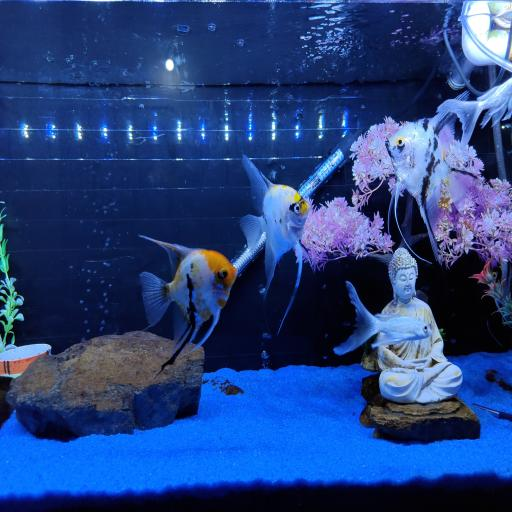Fish: (387, 113, 476, 263), (140, 236, 237, 369), (240, 156, 309, 330), (334, 281, 432, 355), (438, 78, 511, 147)
